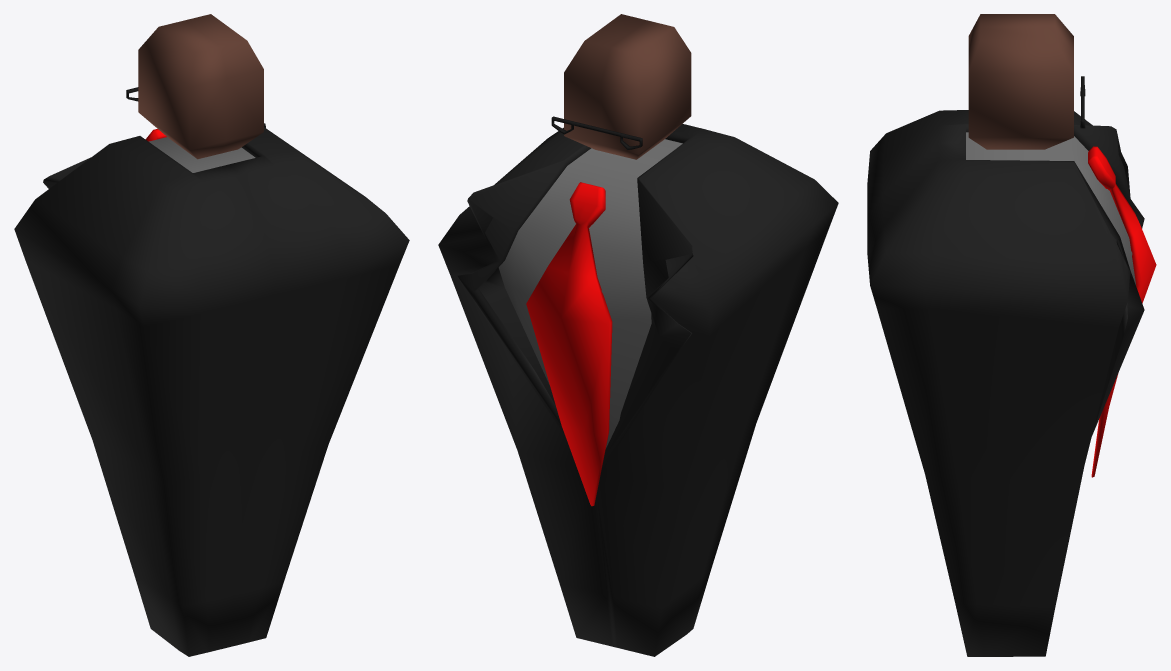
File: GIDEON.glb
3 views of the same model, side by side, from view 1: azimuth 30°, elevation 25°; view 2: azimuth 150°, elevation 25°; view 3: azimuth 270°, elevation 25° (orthographic). The views are drawn at different scales.
Visible parts, largest first — view 1: Body.002; view 2: Body.002; view 3: Body.002.
Part boxes in pixels (bbox=[...]): Body.002: bbox=[14, 14, 409, 656]; Body.002: bbox=[438, 14, 838, 656]; Body.002: bbox=[867, 14, 1156, 656].
Size of the model in its own units: 1.2 by 2.48 by 1.07.
Materials: 1 (1 with a texture image).
